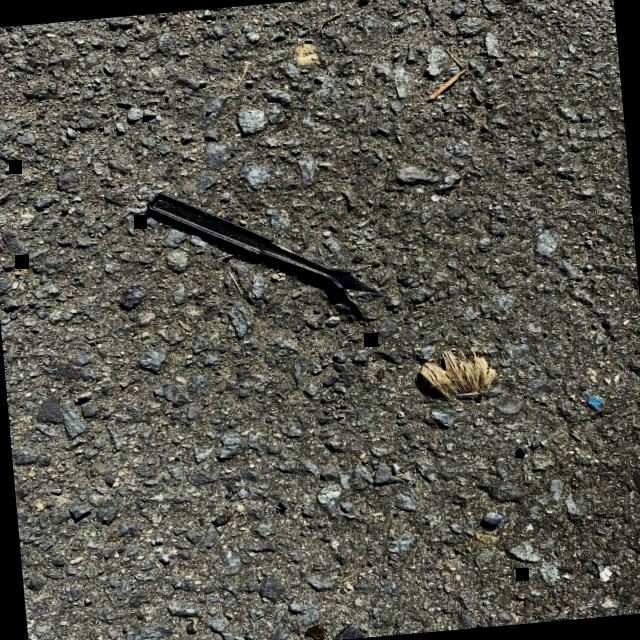Broken glass: (305, 625, 324, 639), (215, 514, 229, 525), (35, 113, 43, 120), (108, 535, 115, 540)
Other plastic bottle: (586, 396, 600, 409), (598, 567, 610, 582)
Plastic utensils: (145, 192, 379, 293)
